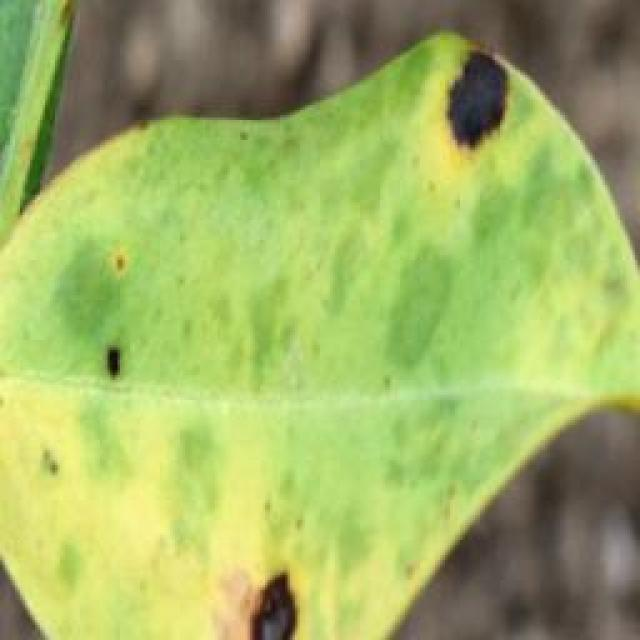Yellowish: (44, 215, 204, 412), (403, 0, 570, 162), (208, 543, 356, 640)
